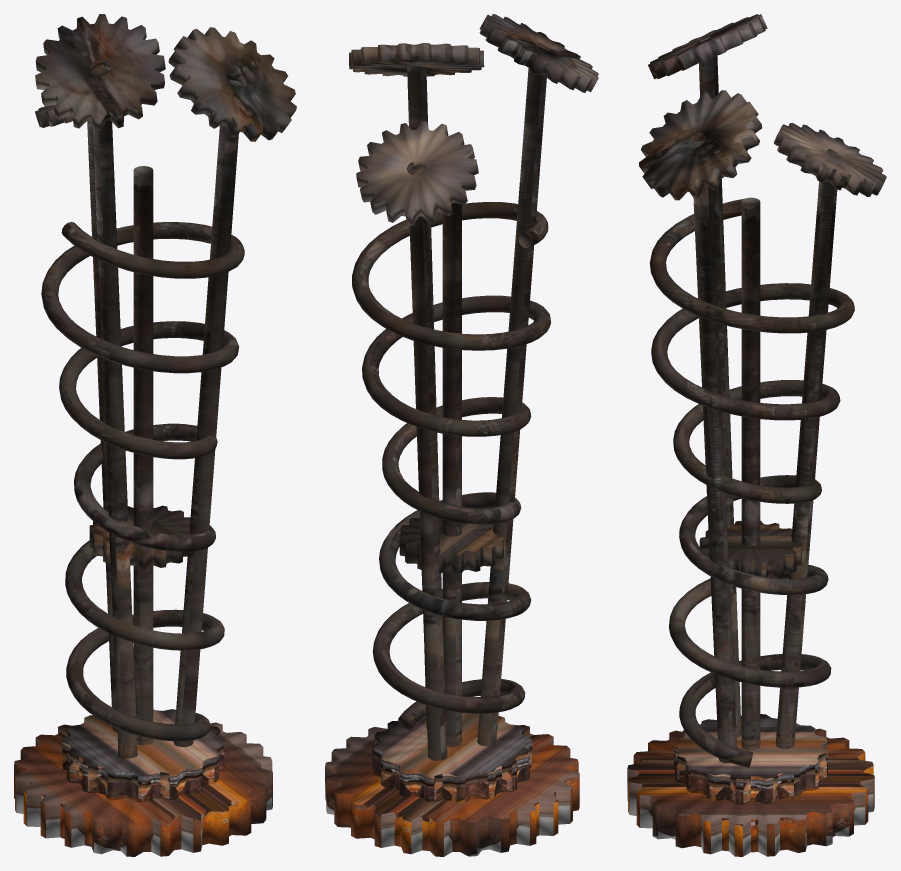
File: hy3d-esc-043.glb
3 renders of one model, left to right at view 1: azimuth 30°, elevation 25°; view 2: azimuth 150°, elevation 25°; view 3: azimuth 270°, elevation 25°, orthographic. The views are drawn at different scales.
Visible parts, largest first — view 1: world; view 2: world; view 3: world.
Boxes of the visible parts, bbox=[...] form: world: bbox=[14, 14, 296, 856]; world: bbox=[325, 14, 598, 856]; world: bbox=[627, 14, 886, 856].
Size of the model in its own units: 0.3878 by 1.22 by 0.3749.
Materials: 1 (1 with a texture image).
